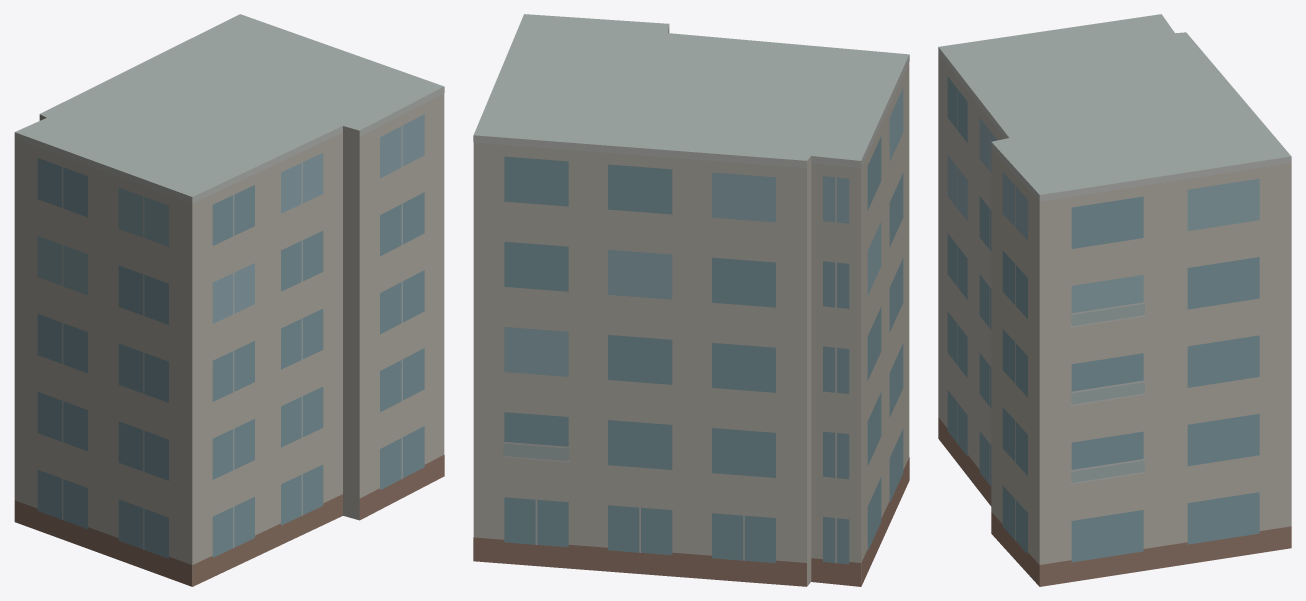
Rendered from survey-upis-32865610.glb.
3 views of the same model, side by side, from view 1: azimuth 30°, elevation 25°; view 2: azimuth 150°, elevation 25°; view 3: azimuth 270°, elevation 25° (orthographic). The views are drawn at different scales.
Visible parts, largest first — view 1: survey-upis-32865610.tmp; view 2: survey-upis-32865610.tmp; view 3: survey-upis-32865610.tmp.
Part boxes in pixels (x1,y1,x2,y2): survey-upis-32865610.tmp: (14, 14, 444, 586); survey-upis-32865610.tmp: (473, 14, 909, 586); survey-upis-32865610.tmp: (938, 14, 1291, 586).
Bounding box in the file's own units: 14.28 × 14.4 × 11.77.
